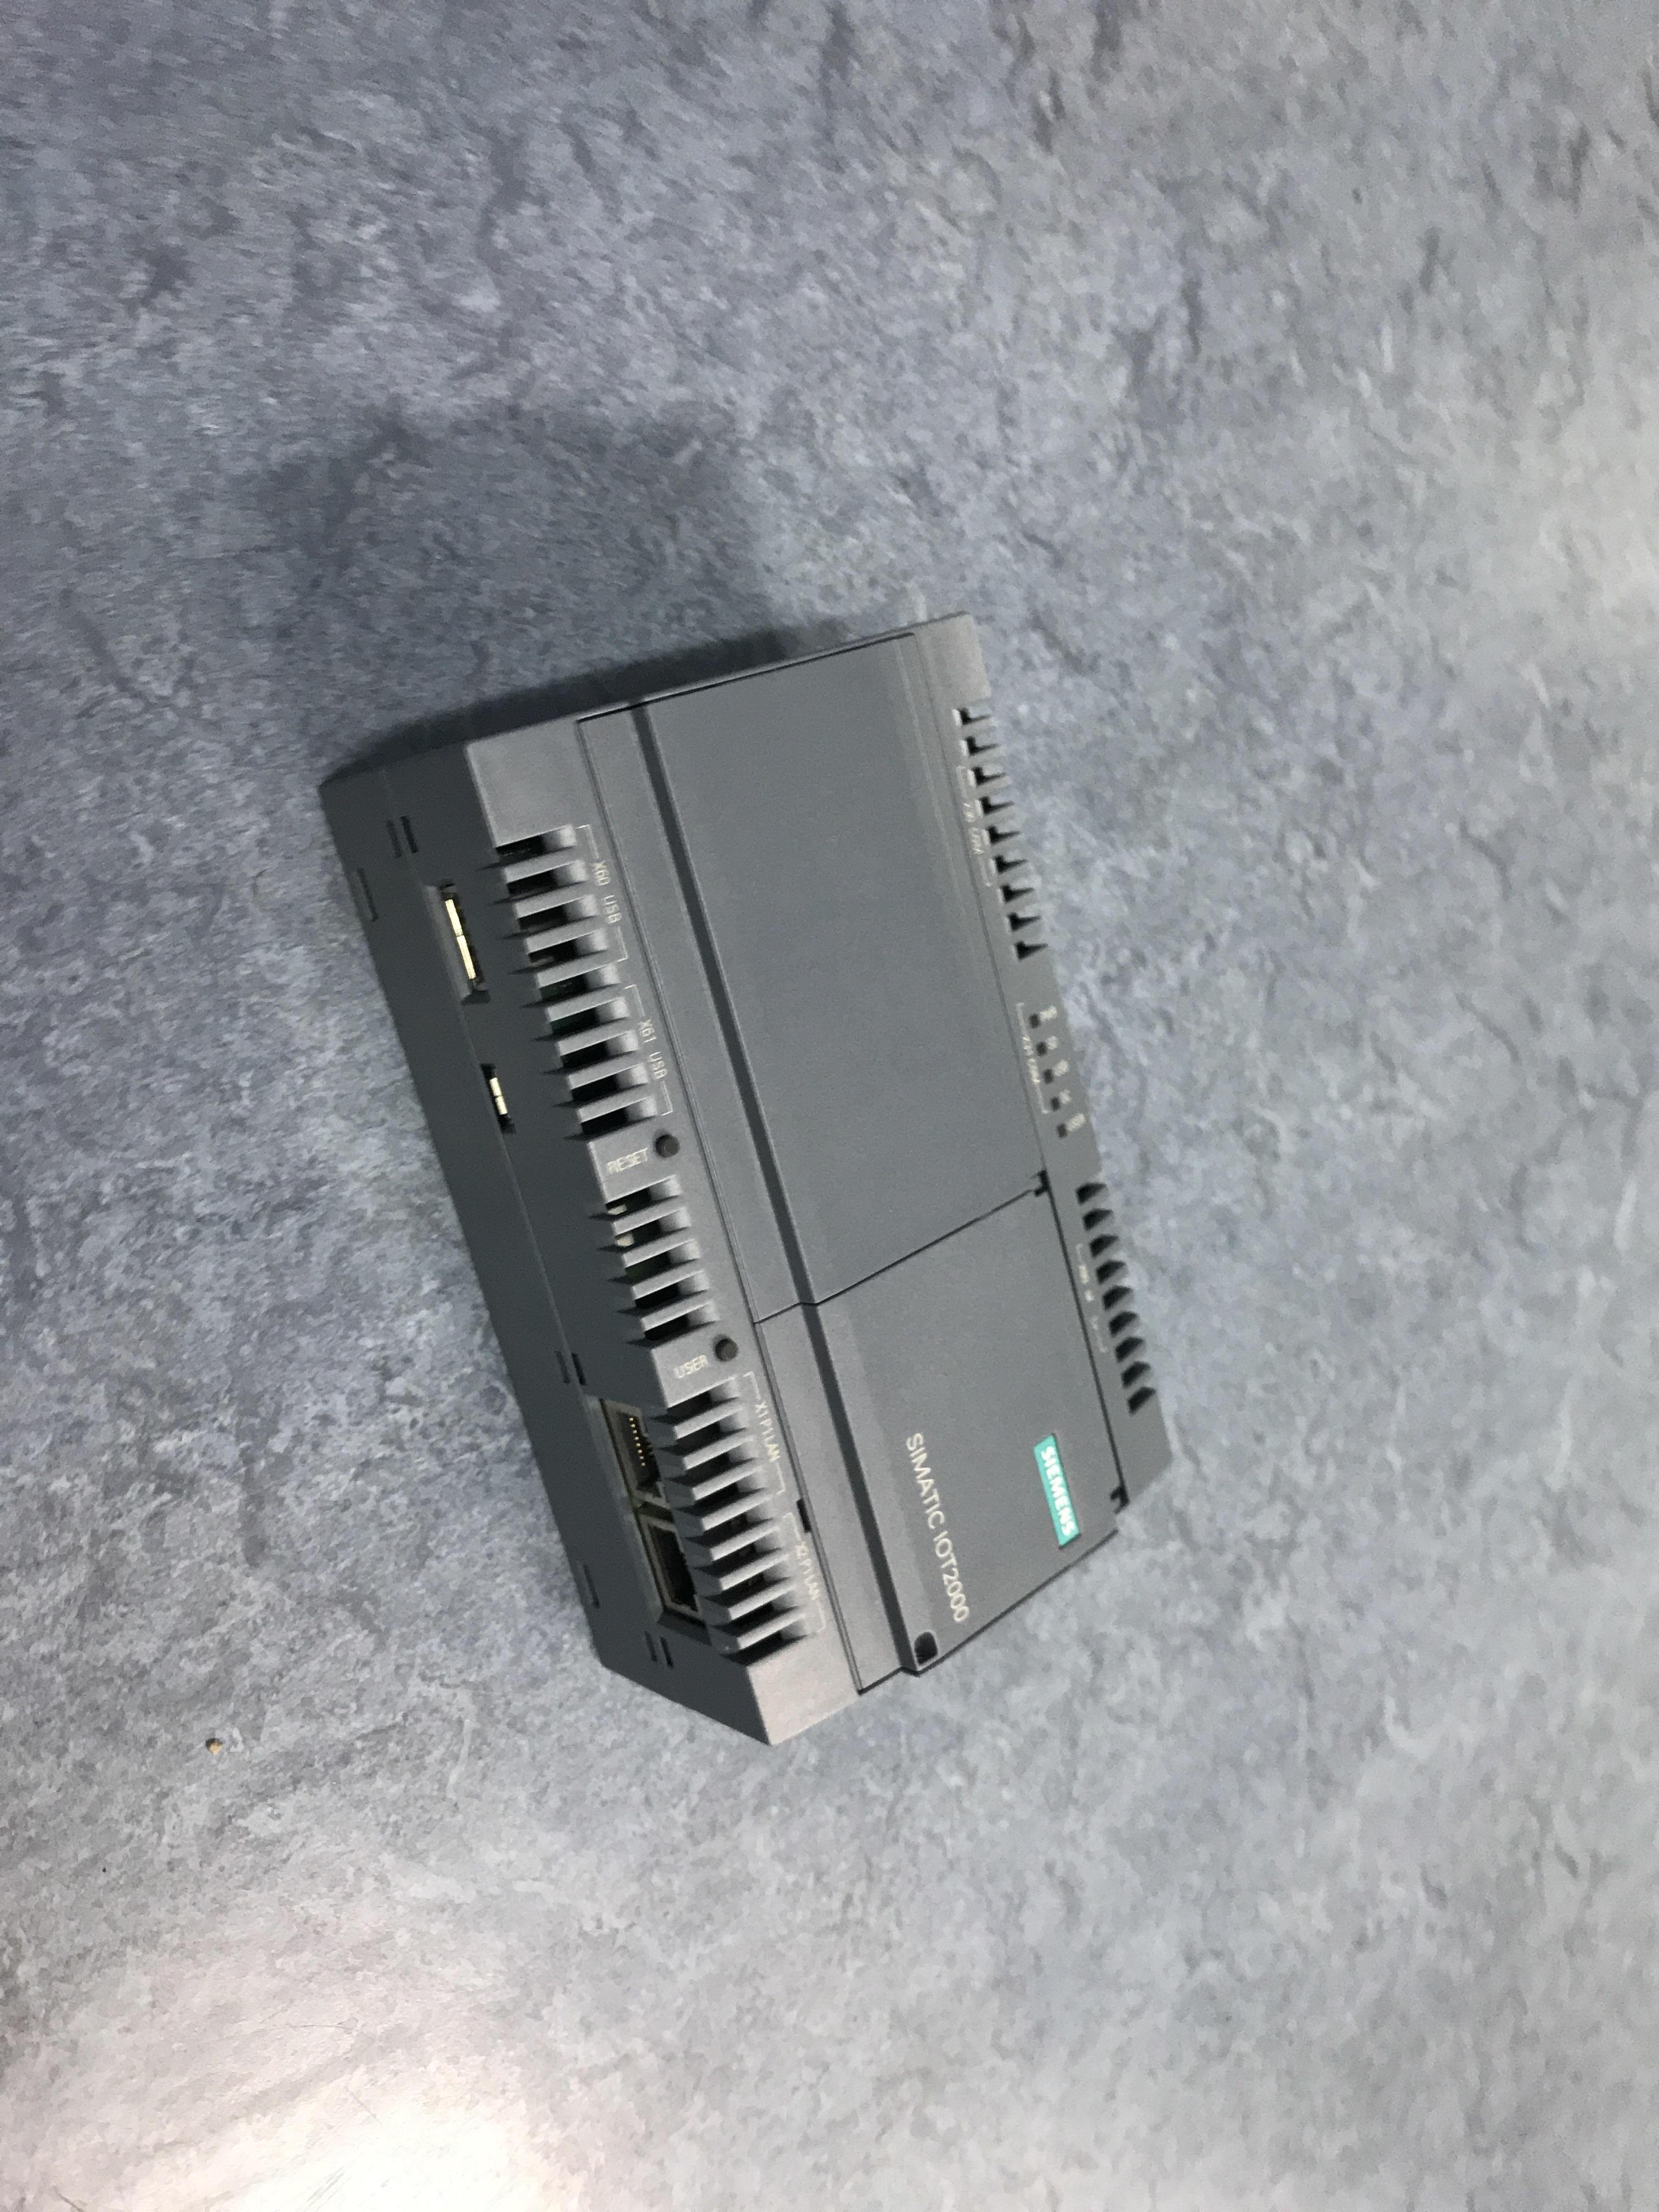device: (315, 610, 1175, 1749)
